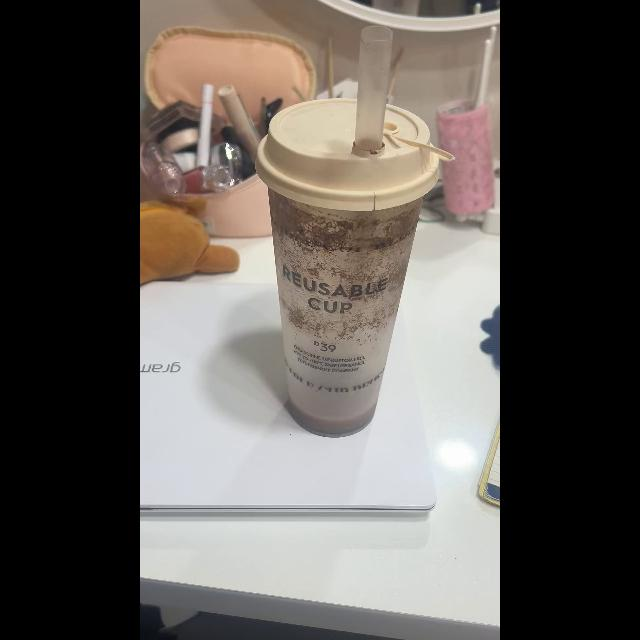dirty: (266, 190, 422, 438)
